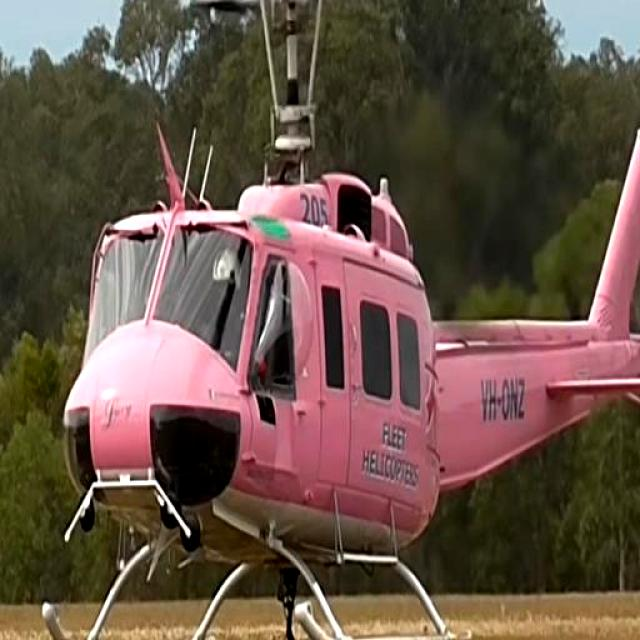drone: (38, 0, 640, 640)
